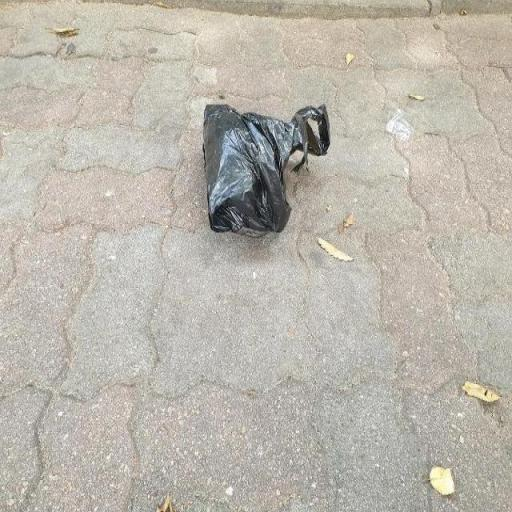plastic-bag: (197, 98, 332, 238)
